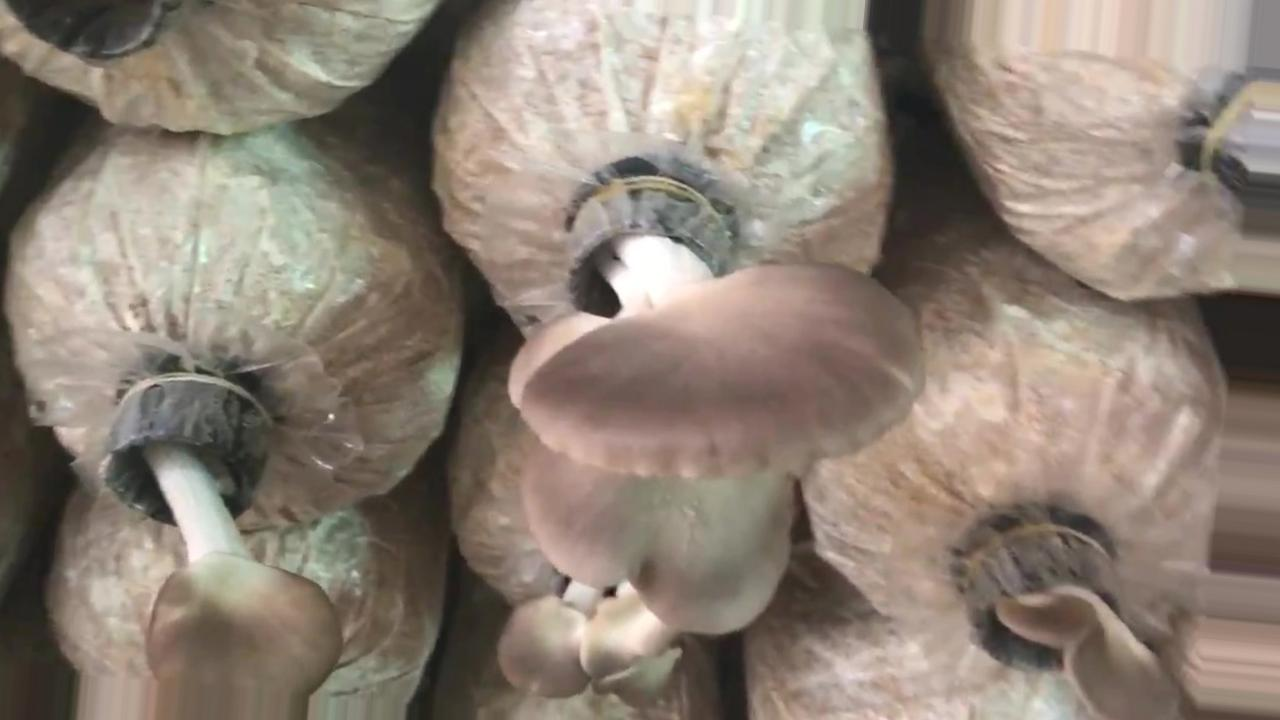nam: (498, 177, 925, 699), (98, 371, 339, 720), (961, 531, 1174, 720)
